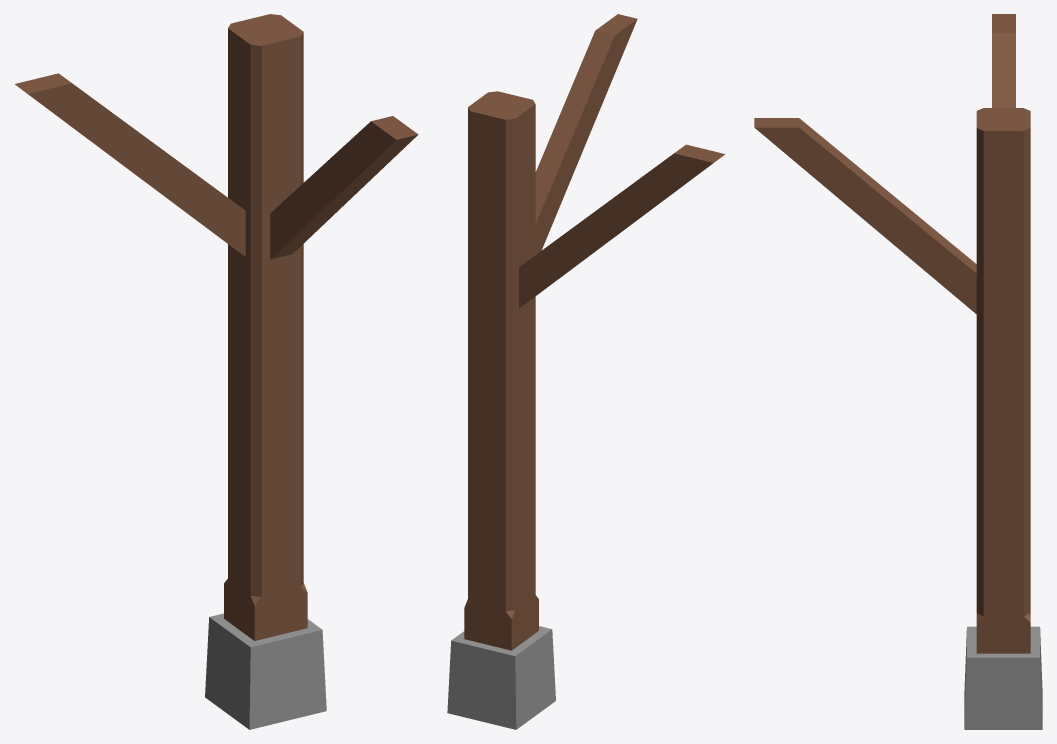
Rendered from Column_3.fbx.
3 renders of one model, left to right at view 1: azimuth 30°, elevation 25°; view 2: azimuth 150°, elevation 25°; view 3: azimuth 270°, elevation 25°, orthographic. The views are drawn at different scales.
Parts seen in each view (by area): view 1: Stützpfeiler_3; view 2: Stützpfeiler_3; view 3: Stützpfeiler_3.
Part boxes in pixels (left/top/right/bottom): Stützpfeiler_3: left=14, top=14, right=418, bottom=729; Stützpfeiler_3: left=447, top=14, right=725, bottom=729; Stützpfeiler_3: left=754, top=14, right=1042, bottom=729.
Bounding box in the file's own units: 207 × 472 × 208.
1 material, 1 textured.
